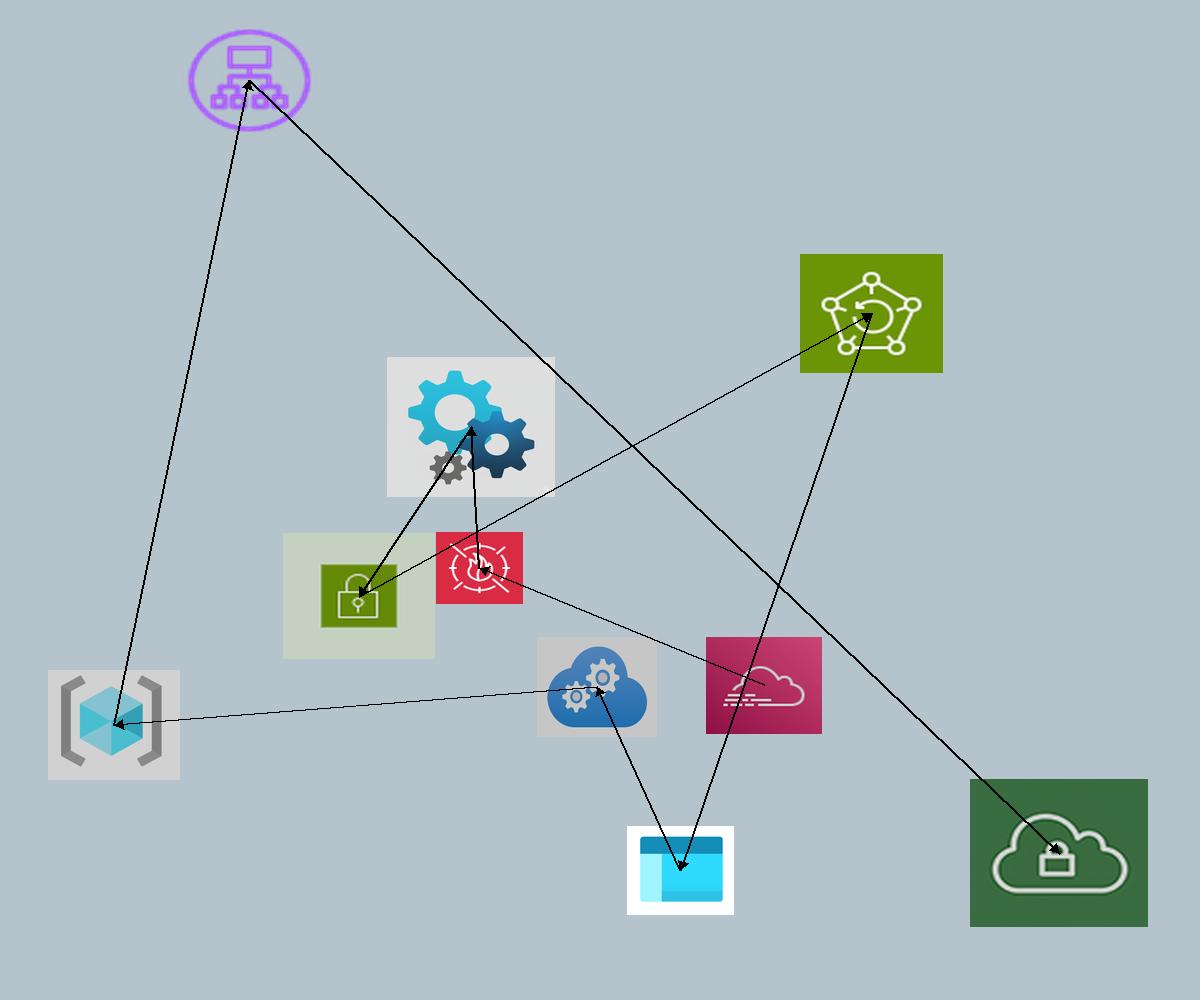AWS-Backup: (800, 254, 943, 373)
AWS-CloudTrail: (706, 637, 822, 734)
AWS-Private_vpc: (970, 779, 1148, 927)
AWS-Public-subnet: (283, 533, 435, 659)
AWS-Res_Elastic-Load-Balancing_Application-Load-Balancer: (183, 25, 316, 136)
AWS-WAF: (436, 532, 523, 604)
Azure_api: (387, 357, 555, 497)
Azure_cloud_services: (537, 637, 657, 737)
Azure_management-portal: (627, 826, 734, 915)
Azure_resource_group: (48, 670, 180, 780)
